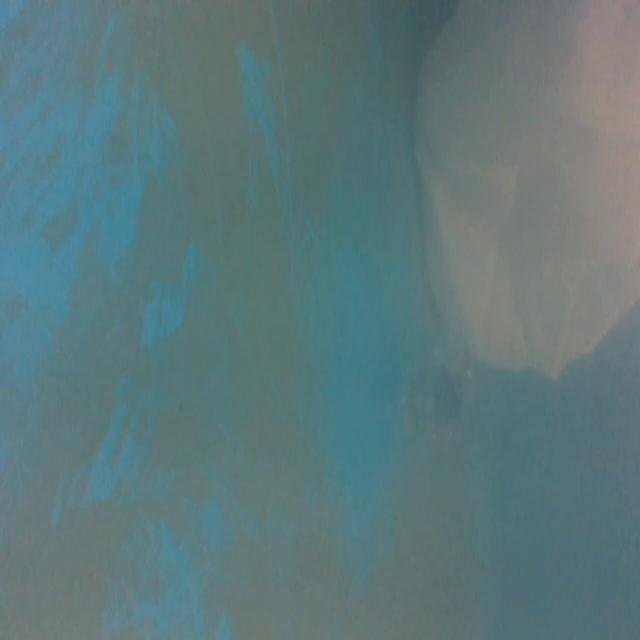plastic bags: (412, 3, 640, 383)
